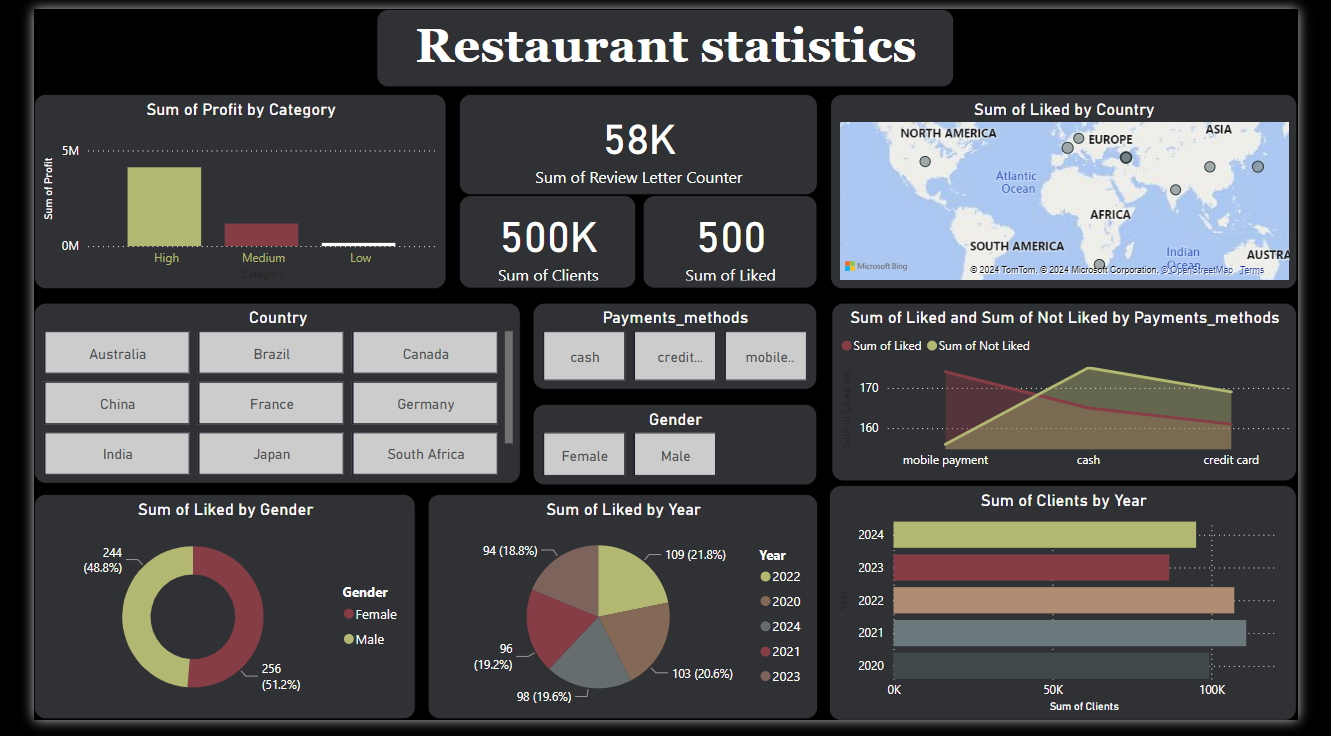

The dashboard page shown, as its layout file describes it:
{"tool":"powerbi","page":{"name":"Page 1","canvas":[1280,720],"ordinal":0},"visuals":[{"type":"pieChart","fields":{"Category":["Restaurant-Final.Year"],"Y":["Sum(Restaurant-Final.Liked)"]},"box":[398.3,491.7,395,228.3],"z":0},{"type":"textbox","title":"HF","box":[346.6,0,584.9,79.5],"z":1000},{"type":"donutChart","fields":{"Category":["Restaurant-Final.Gender"],"Y":["Sum(Restaurant-Final.Liked)"]},"box":[0,491.7,386.7,228.3],"z":2000},{"type":"areaChart","fields":{"Category":["Restaurant-Final.Payments_methods"],"Y":["Sum(Restaurant-Final.Liked)","Sum(Restaurant-Final.Not Liked)"]},"box":[808.2,297.3,471.2,180.8],"z":3000},{"type":"card","fields":{"Values":["Sum(Restaurant-Final.ID)"]},"box":[430.1,189,179.5,94.5],"z":4000},{"type":"card","fields":{"Values":["Sum(Restaurant-Final.Liked)"]},"box":[616.4,189,176.7,94.5],"z":5000},{"type":"card","fields":{"Values":["Sum(Restaurant-Final.Review Letter Counter)"]},"box":[430.1,86.3,363,102.7],"z":6000},{"type":"map","fields":{"Category":["Restaurant-Final.Country"],"Size":["Sum(Restaurant-Final.Liked)"]},"box":[806.8,86.3,472.6,197.3],"z":7000},{"type":"advancedSlicerVisual","fields":{"Values":["Restaurant-Final.Gender"]},"box":[505.5,400,287.7,82.2],"z":8000},{"type":"advancedSlicerVisual","fields":{"Values":["Restaurant-Final.Payments_methods"]},"box":[505.5,297.3,287.7,87.7],"z":9000},{"type":"advancedSlicerVisual","fields":{"Values":["Restaurant-Final.Country"]},"box":[0,297.3,493.2,183.6],"z":10000},{"type":"barChart","fields":{"Category":["Restaurant-Final.Year"],"Y":["Sum(Restaurant-Final.Clients)"]},"box":[805.5,482.2,474,238.4],"z":11000},{"type":"lineClusteredColumnComboChart","fields":{"Category":["Restaurant-Final.Category"],"Y":["Sum(Restaurant-Final.Profit)"]},"box":[0,86.3,417.8,197.3],"z":12002}]}

Visuals, with their boxes in screenshot pixels (x1, y1, x2, y2), scaled from the page's 1280x720 canvas onto the 1331x736 screenshot:
pieChart - Restaurant-Final.Year x Sum(Restaurant-Final.Liked): [left=414, top=503, right=825, bottom=735]
"HF" textbox: [left=360, top=0, right=969, bottom=81]
donutChart - Restaurant-Final.Gender x Sum(Restaurant-Final.Liked): [left=0, top=503, right=402, bottom=735]
areaChart - Restaurant-Final.Payments_methods x Sum(Restaurant-Final.Liked): [left=840, top=304, right=1330, bottom=489]
card - Sum(Restaurant-Final.ID): [left=447, top=193, right=634, bottom=290]
card - Sum(Restaurant-Final.Liked): [left=641, top=193, right=825, bottom=290]
card - Sum(Restaurant-Final.Review Letter Counter): [left=447, top=88, right=825, bottom=193]
map - Restaurant-Final.Country x Sum(Restaurant-Final.Liked): [left=839, top=88, right=1330, bottom=290]
advancedSlicerVisual - Restaurant-Final.Gender: [left=526, top=409, right=825, bottom=493]
advancedSlicerVisual - Restaurant-Final.Payments_methods: [left=526, top=304, right=825, bottom=394]
advancedSlicerVisual - Restaurant-Final.Country: [left=0, top=304, right=513, bottom=492]
barChart - Restaurant-Final.Year x Sum(Restaurant-Final.Clients): [left=838, top=493, right=1330, bottom=735]
lineClusteredColumnComboChart - Restaurant-Final.Category x Sum(Restaurant-Final.Profit): [left=0, top=88, right=434, bottom=290]
